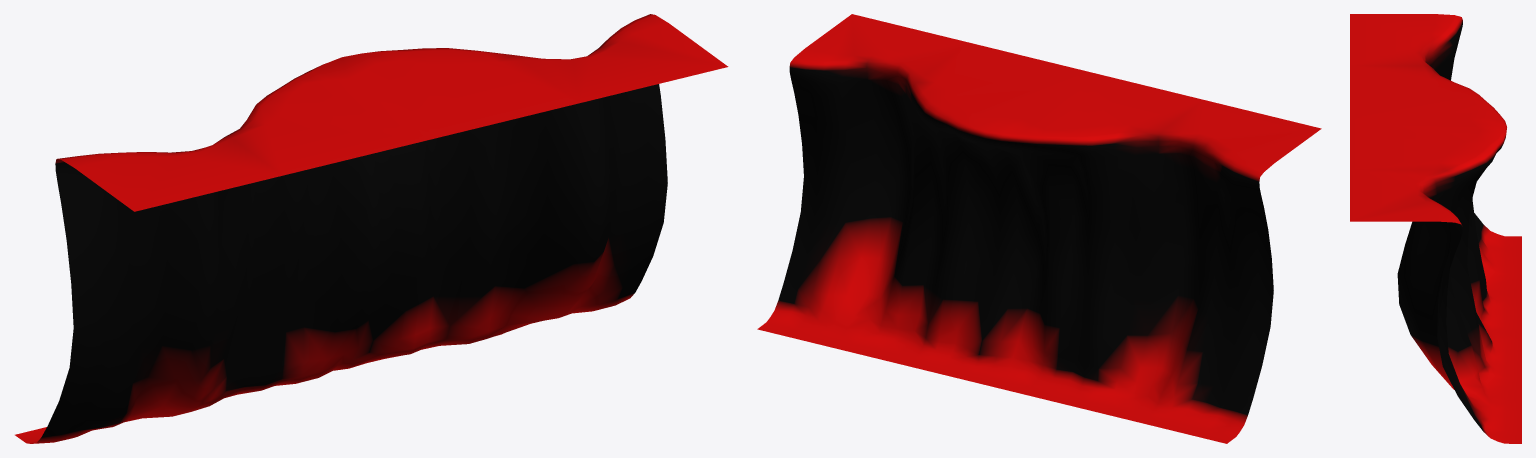
Rendered from GroundCliff02D 2M Background.fbx.
The picture shows the model from 3 angles, left to right: view 1: azimuth 30°, elevation 25°; view 2: azimuth 150°, elevation 25°; view 3: azimuth 270°, elevation 25°; orthographic projection. The views are drawn at different scales.
Visible parts, largest first — view 1: GroundCliff02D 2M Background; view 2: GroundCliff02D 2M Background; view 3: GroundCliff02D 2M Background.
Boxes of the visible parts, x1,y1,x2,y2 form: GroundCliff02D 2M Background: (15, 14, 728, 443); GroundCliff02D 2M Background: (757, 14, 1321, 443); GroundCliff02D 2M Background: (1350, 14, 1521, 443).
Bounding box in the file's own units: 4 × 2 × 1.4.
